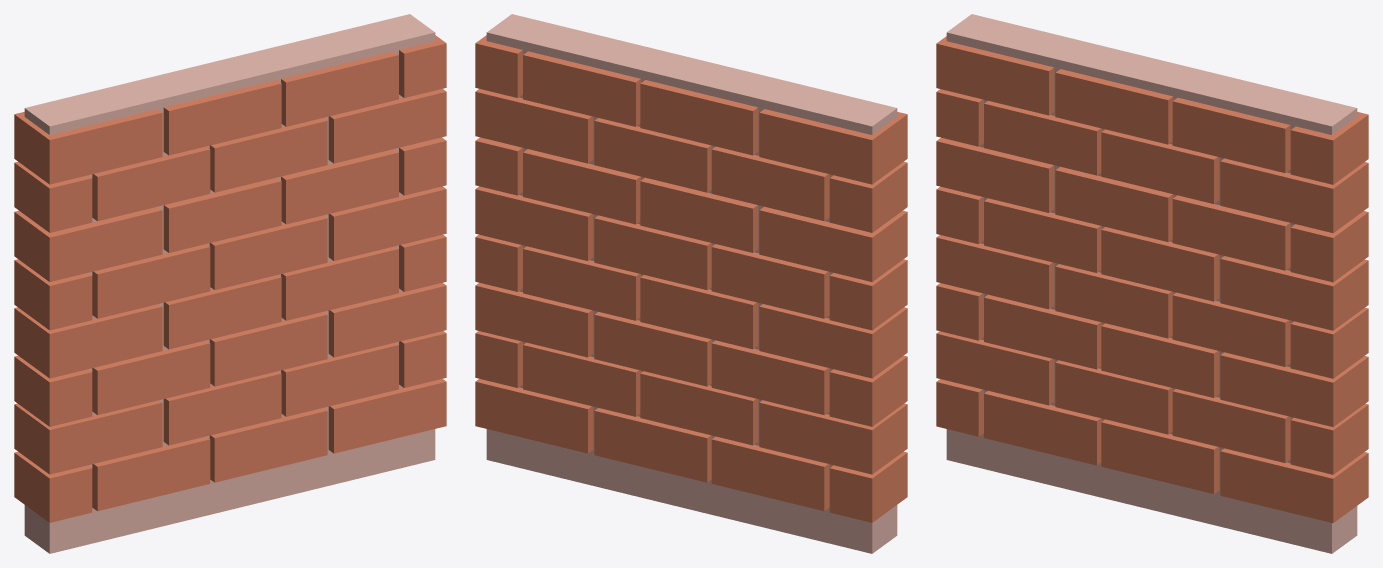
The model's file is duvar 2.2.1.fbx.
3 views of the same model, side by side, from view 1: azimuth 30°, elevation 25°; view 2: azimuth 150°, elevation 25°; view 3: azimuth 330°, elevation 25° (orthographic).
Visible parts, largest first — view 1: tugla_grubu_8; view 2: tugla_grubu_8; view 3: tugla_grubu_8.
Boxes of the visible parts, left/top/right/bottom form: tugla_grubu_8: left=14, top=14, right=446, bottom=553; tugla_grubu_8: left=475, top=14, right=907, bottom=553; tugla_grubu_8: left=936, top=14, right=1368, bottom=553.
Bounding box in the file's own units: 1234 × 1269 × 191.
